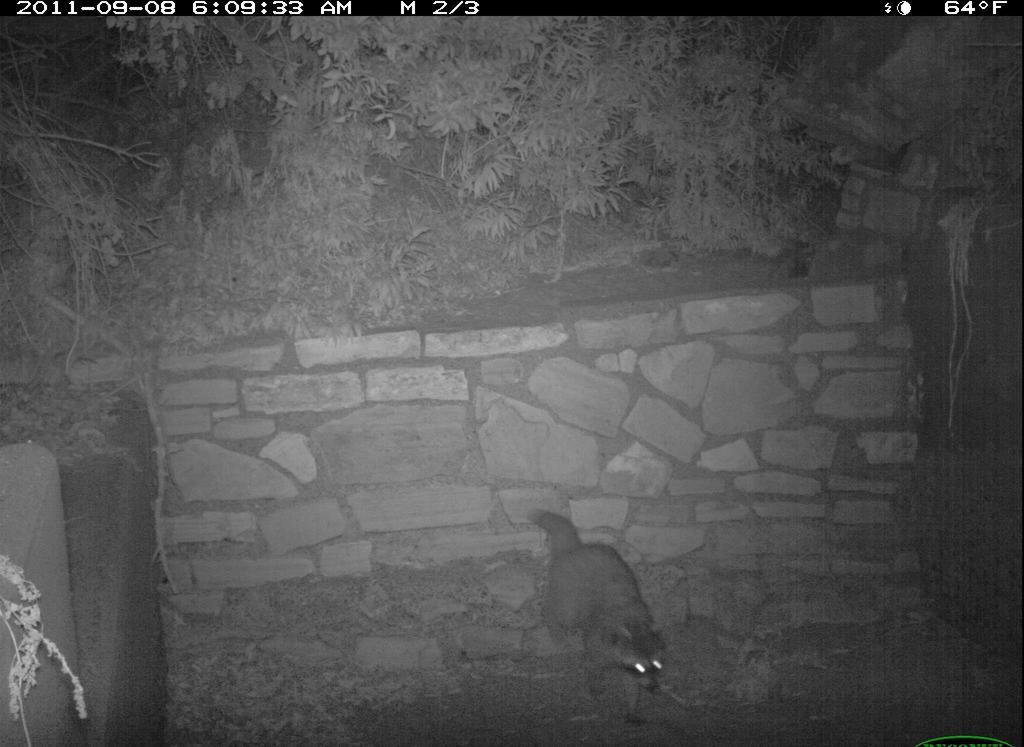raccoon: (523, 498, 674, 735)
